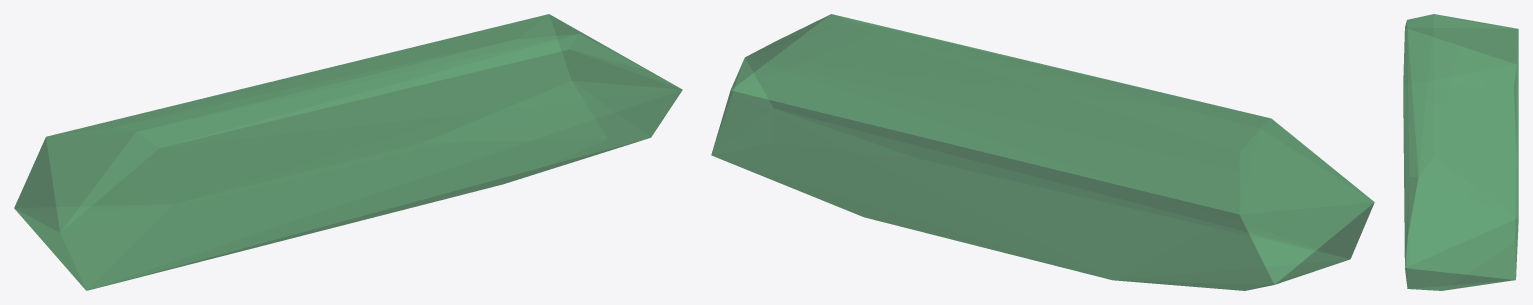
3 views of the same model, side by side, from view 1: azimuth 30°, elevation 25°; view 2: azimuth 150°, elevation 25°; view 3: azimuth 270°, elevation 25° (orthographic). The views are drawn at different scales.
Visible parts, largest first — view 1: Shape_IndexedFaceSet.008_Shape_IndexedFaceSet.9055; view 2: Shape_IndexedFaceSet.008_Shape_IndexedFaceSet.9055; view 3: Shape_IndexedFaceSet.008_Shape_IndexedFaceSet.9055.
Part boxes in pixels (bbox=[...]): Shape_IndexedFaceSet.008_Shape_IndexedFaceSet.9055: bbox=[14, 14, 682, 290]; Shape_IndexedFaceSet.008_Shape_IndexedFaceSet.9055: bbox=[711, 14, 1374, 290]; Shape_IndexedFaceSet.008_Shape_IndexedFaceSet.9055: bbox=[1403, 14, 1518, 290].
Size of the model in its own units: 0.4679 by 0.0958 by 0.0978.
